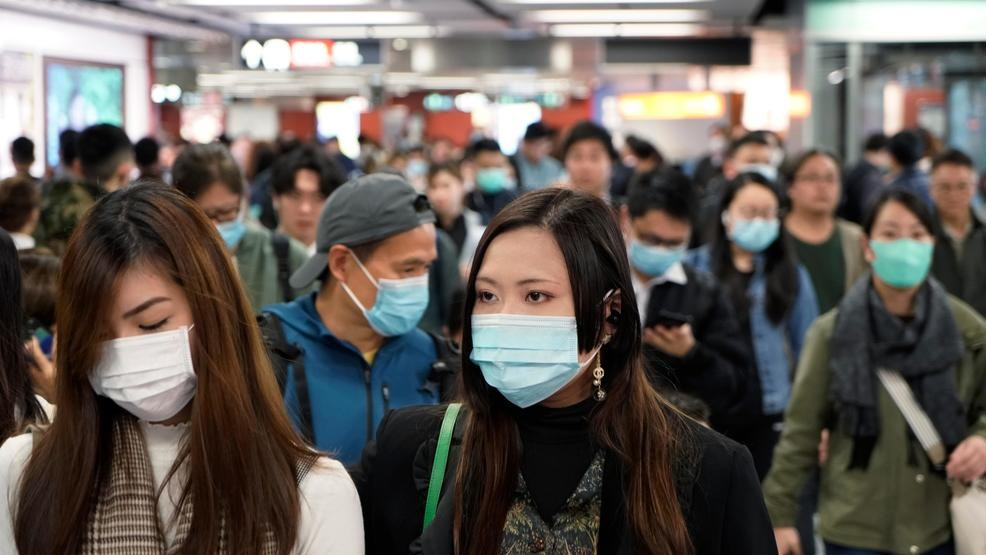Head: (77, 182, 216, 421), (471, 185, 619, 408), (329, 173, 437, 336), (620, 170, 693, 278), (860, 188, 935, 285), (269, 151, 326, 241), (721, 171, 781, 251), (561, 119, 616, 192), (786, 150, 841, 215), (928, 147, 975, 217), (465, 137, 504, 191), (429, 159, 465, 213)
